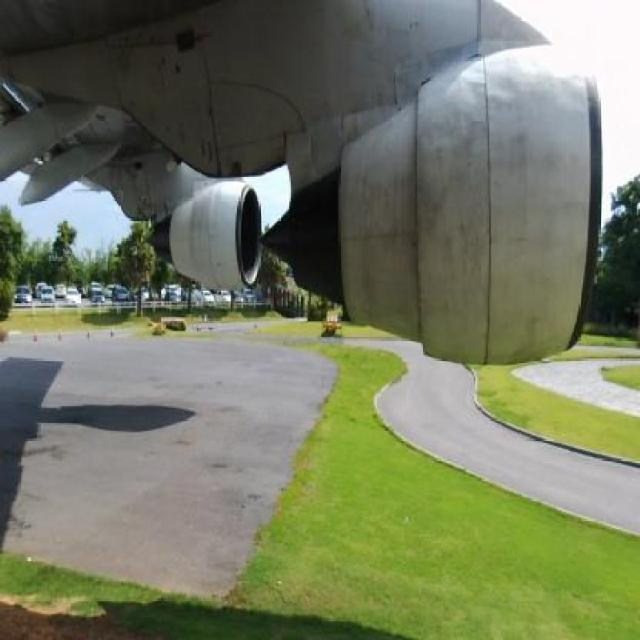Scartch: (417, 109, 488, 288), (351, 166, 415, 272)
